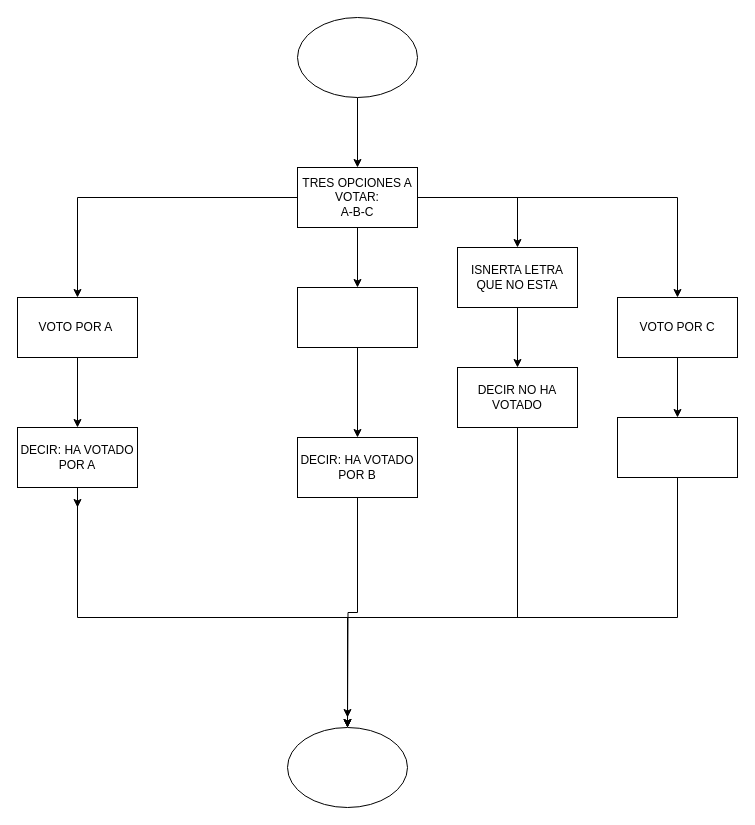
This 755x825 diagram has some shape labels left out. Here are the shapes that lost their labels. From the top down, the centre of each, then its label:
the point at 357,57: INICIO
the point at 357,317: VOTO POR B
the point at 677,447: DECIR: HA VOTADO POR C
the point at 347,767: FIN
